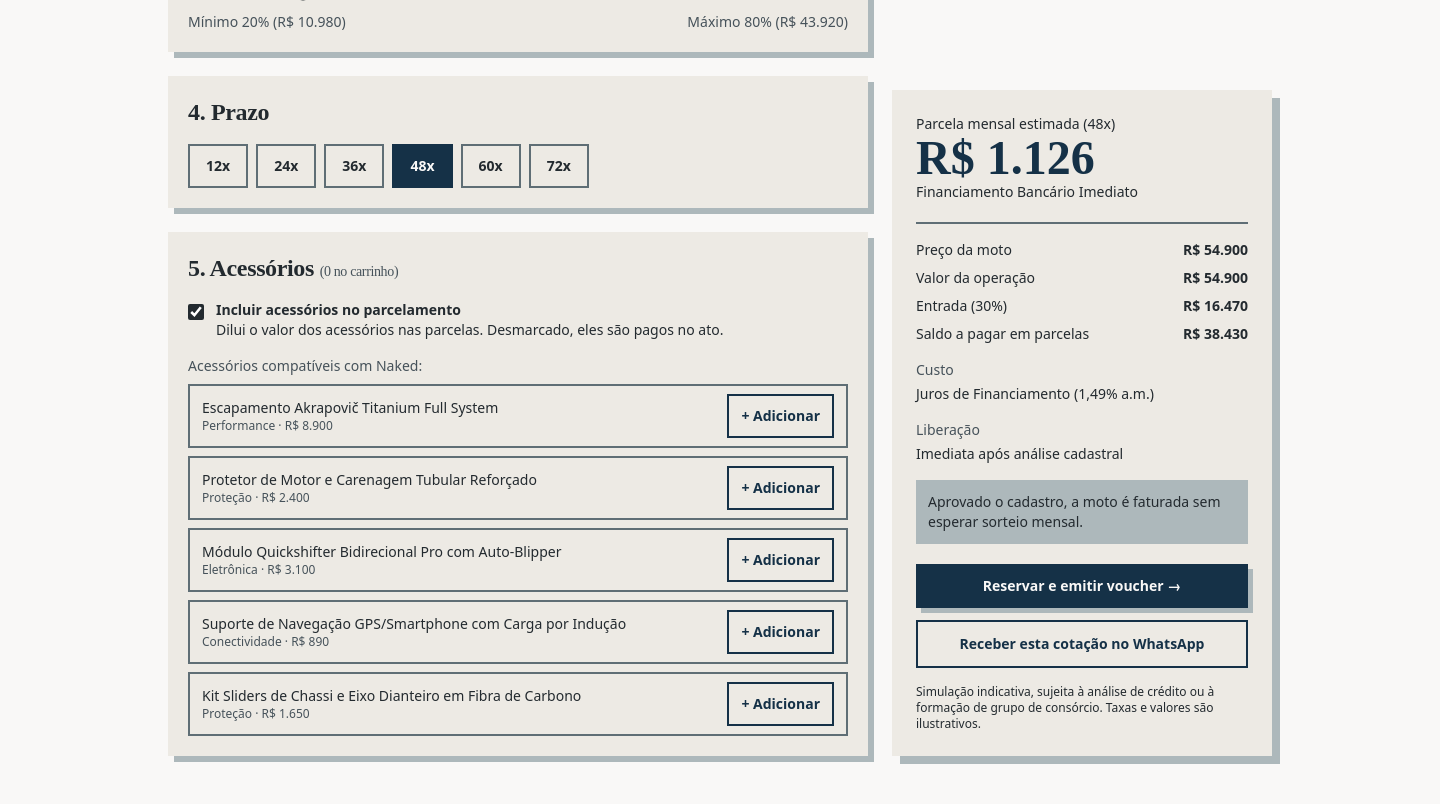
it: RF-07 · Simulador › RN-07: acessório incluído soma ao valor da operação; desmarcar tira da parcela
(page scrolled)
Click the button with aria-label "adicionar protetor de motor": (781, 488) x1=727 y1=466 x2=834 y2=510
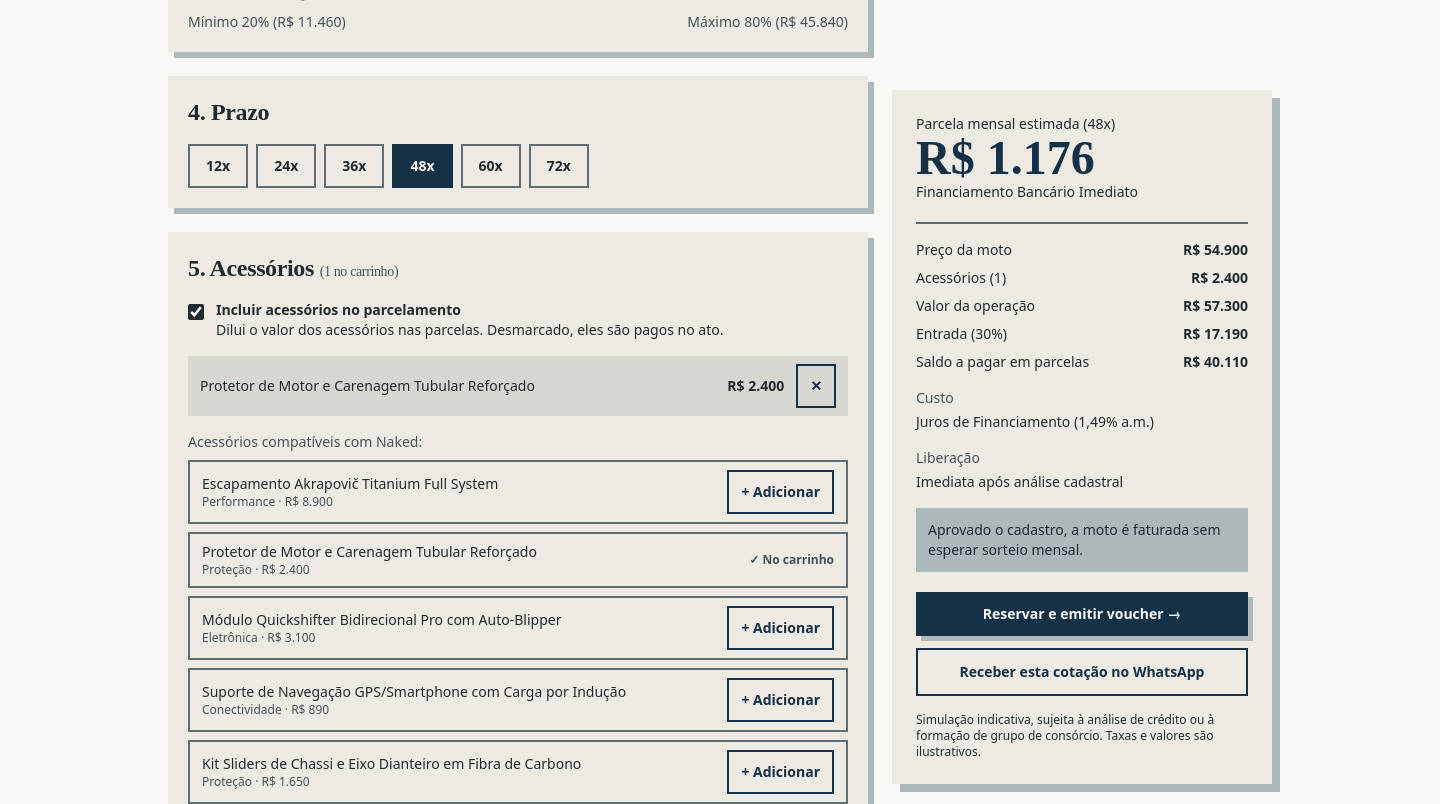
Result: the text "✓ No carrinho" is shown at x1=749 y1=552 x2=834 y2=568
Click the checkbox labelled "Incluir acessórios no parcelamento": (196, 312) x1=188 y1=304 x2=204 y2=320
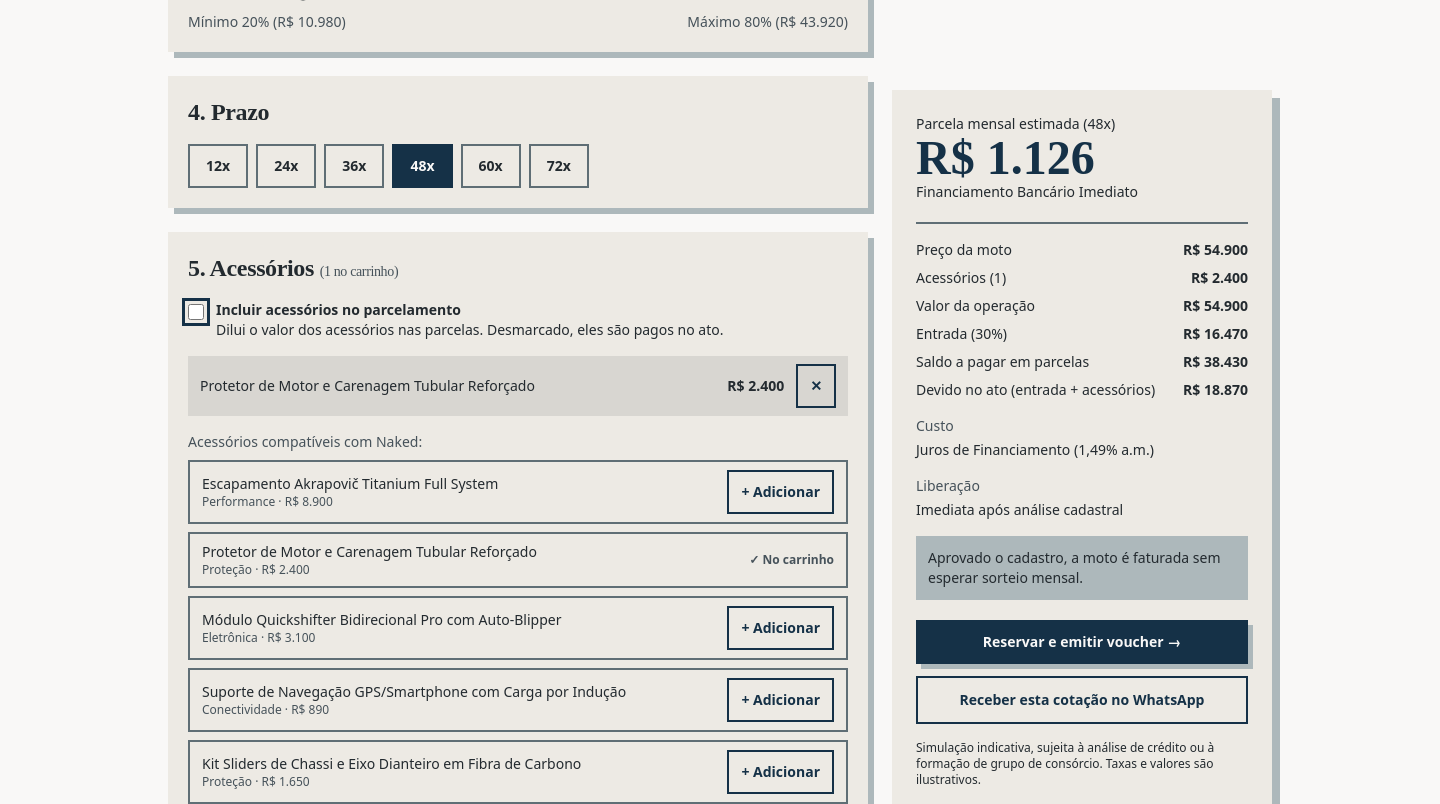
Result: the text "Devido no ato (entrada + acessórios)" is shown at x1=916 y1=380 x2=1167 y2=400
